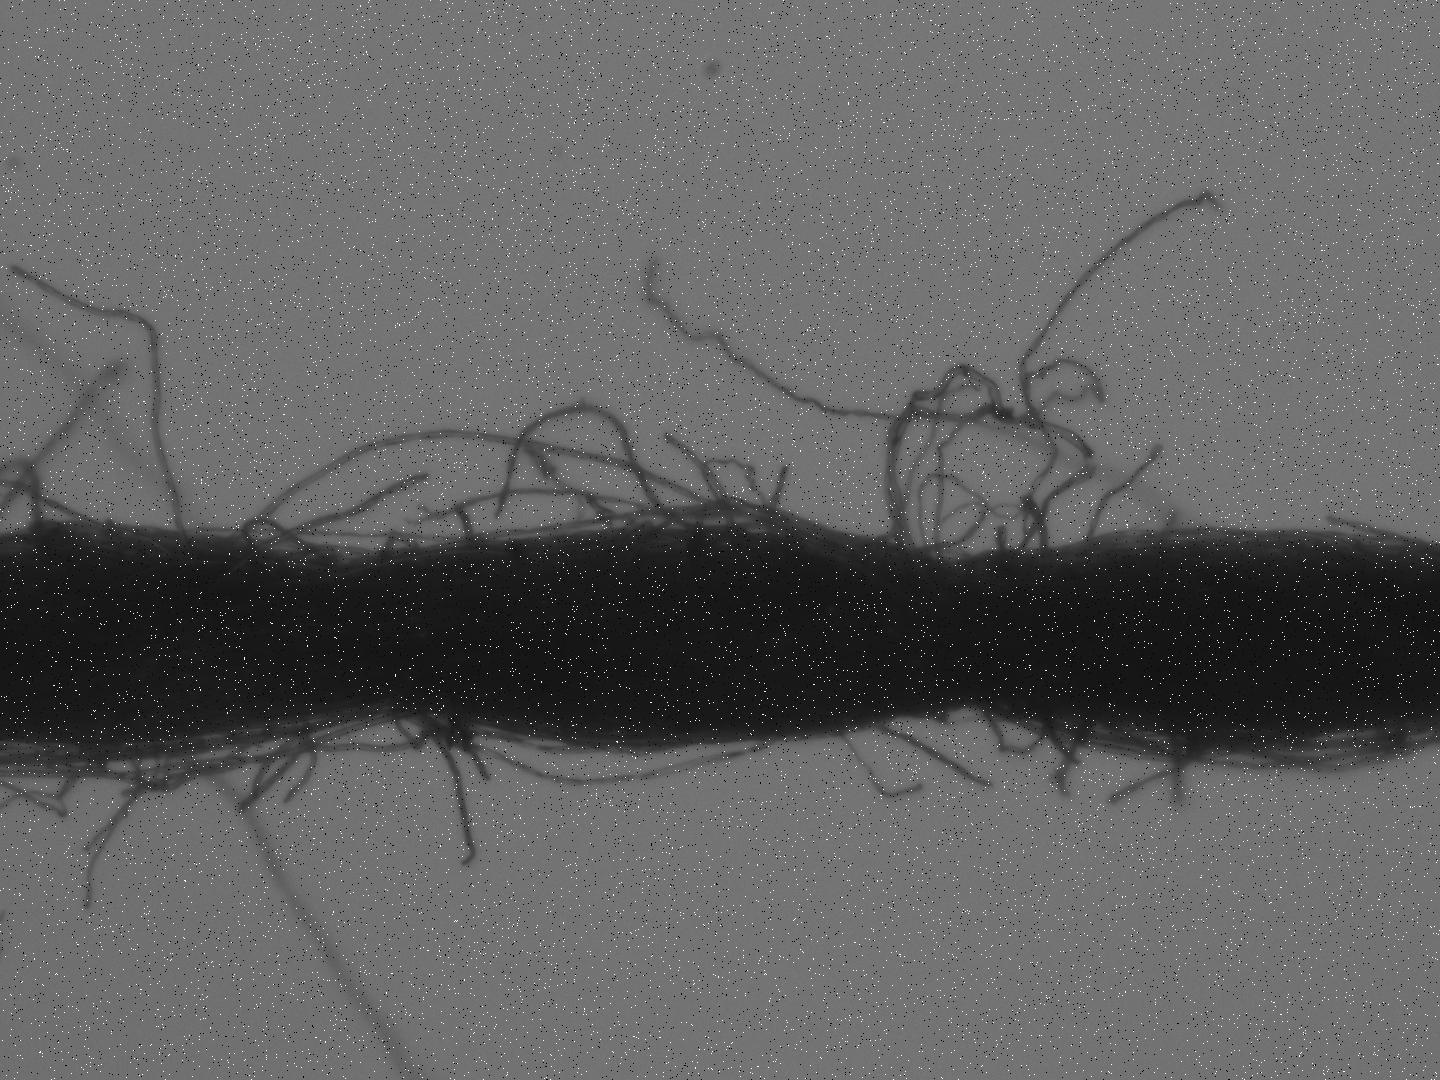loop_fiber: (230, 429, 732, 568), (425, 717, 780, 790), (490, 499, 845, 545), (70, 720, 269, 799), (1158, 732, 1429, 775), (904, 469, 986, 557), (246, 517, 334, 574), (1273, 731, 1426, 752), (984, 716, 1052, 754), (379, 532, 429, 557)
protruding_fiber: (262, 465, 426, 554), (1085, 446, 1163, 543), (882, 726, 988, 788), (435, 737, 472, 869), (1059, 718, 1100, 799)
